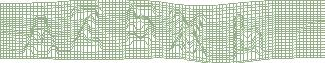5: (123, 2, 159, 49)
A: (21, 15, 59, 59)
X: (168, 6, 209, 60)
Z: (68, 4, 105, 53)
b: (232, 14, 262, 62)
